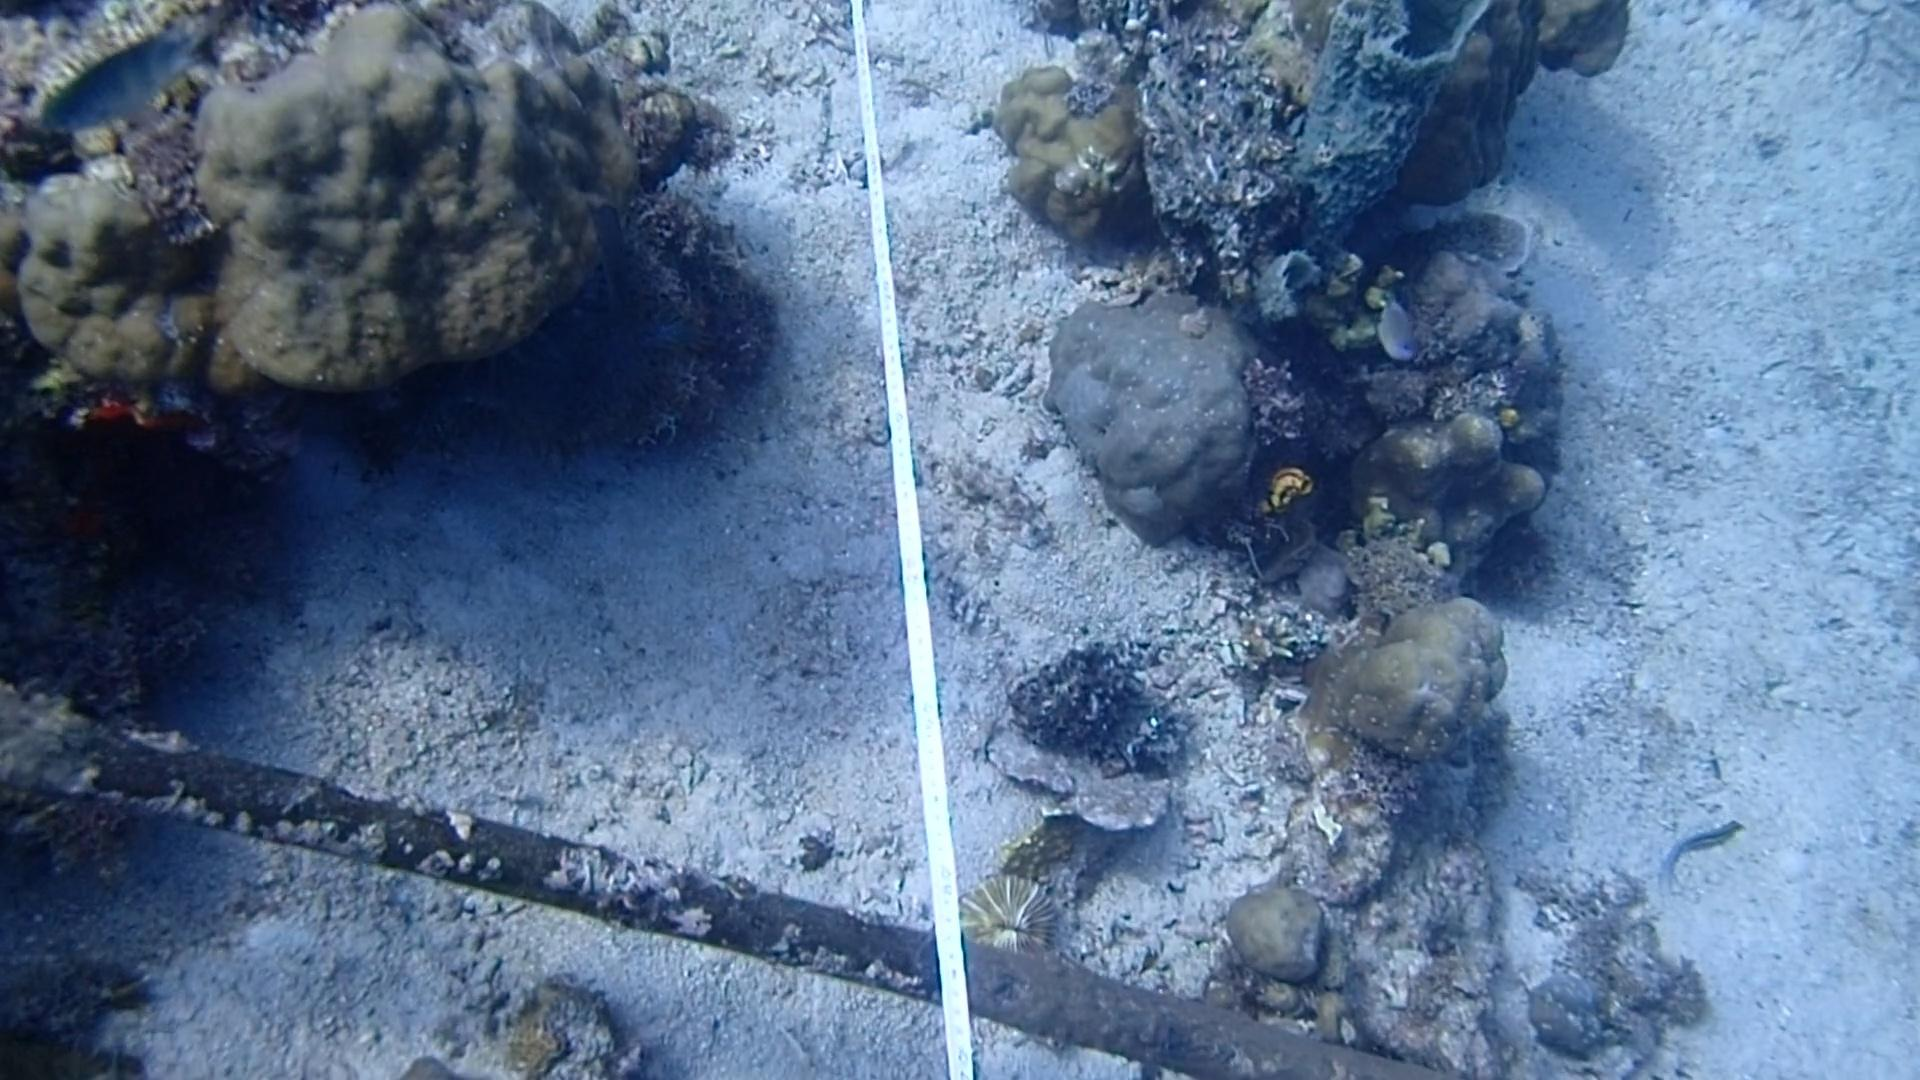Blue Fish: (42, 15, 211, 144)
Blue Nose Fish: (1364, 297, 1427, 371)
Dark Fish: (582, 195, 653, 324)
Striped Fish: (1654, 810, 1746, 898)
